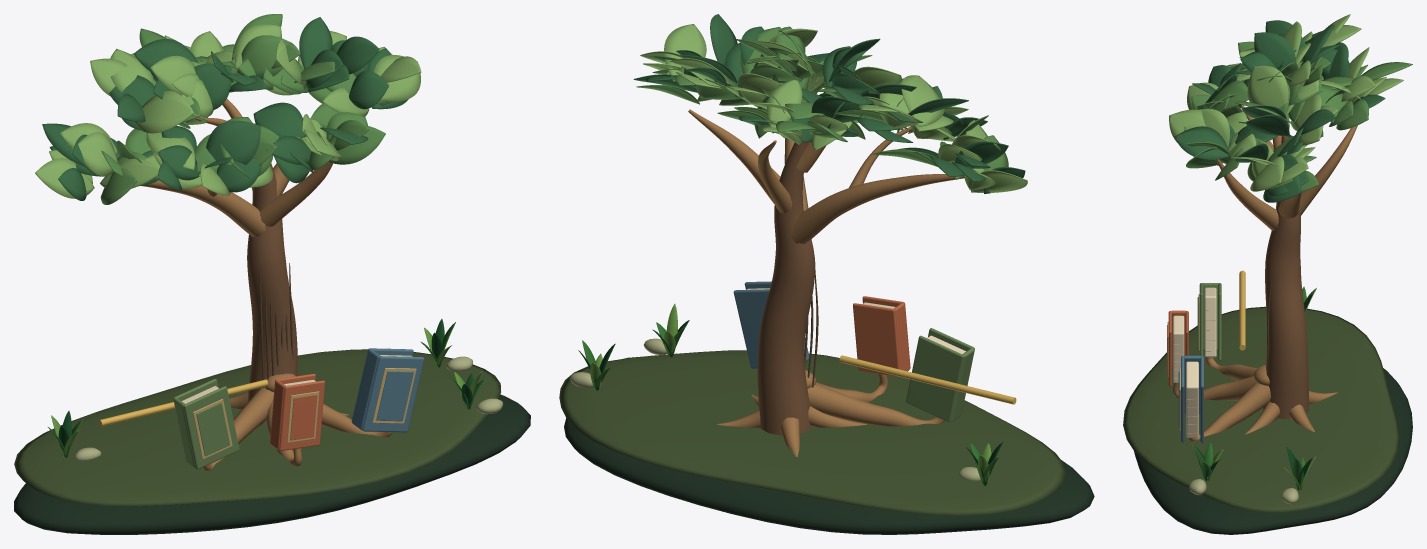
The model's file is root-books.glb.
3 views of the same model, side by side, from view 1: azimuth 30°, elevation 25°; view 2: azimuth 150°, elevation 25°; view 3: azimuth 270°, elevation 25° (orthographic). The views are drawn at different scales.
Parts seen in each view (by area): view 1: root-books_surface_07, root-books_surface_03, root-books_surface_05, root-books_surface_06, root-books_surface_04, root-books_surface_00, root-books_surface_13, root-books_surface_01, root-books_surface_10, root-books_surface_12, root-books_surface_08, root-books_surface_11 (+5 smaller); view 2: root-books_surface_07, root-books_surface_06, root-books_surface_05, root-books_surface_03, root-books_surface_00, root-books_surface_01, root-books_surface_04, root-books_surface_10, root-books_surface_12, root-books_surface_08, root-books_surface_13, root-books_surface_14 (+4 smaller); view 3: root-books_surface_07, root-books_surface_05, root-books_surface_03, root-books_surface_06, root-books_surface_00, root-books_surface_04, root-books_surface_01, root-books_surface_08, root-books_surface_09, root-books_surface_10, root-books_surface_13, root-books_surface_12 (+5 smaller).
Part boxes in pixels (x1=…): root-books_surface_07: x1=14, y1=349, x2=500, y2=506; root-books_surface_03: x1=42, y1=17, x2=408, y2=200; root-books_surface_05: x1=35, y1=24, x2=421, y2=198; root-books_surface_06: x1=14, y1=394, x2=530, y2=534; root-books_surface_04: x1=100, y1=14, x2=388, y2=204; root-books_surface_00: x1=247, y1=123, x2=297, y2=421; root-books_surface_13: x1=351, y1=348, x2=424, y2=432; root-books_surface_01: x1=142, y1=99, x2=348, y2=430; root-books_surface_10: x1=173, y1=379, x2=239, y2=469; root-books_surface_12: x1=270, y1=373, x2=324, y2=450; root-books_surface_08: x1=202, y1=373, x2=392, y2=470; root-books_surface_11: x1=193, y1=368, x2=416, y2=459; root-books_surface_07: x1=559, y1=350, x2=1065, y2=515; root-books_surface_06: x1=564, y1=356, x2=1094, y2=534; root-books_surface_05: x1=640, y1=24, x2=1027, y2=192; root-books_surface_03: x1=633, y1=14, x2=1025, y2=193; root-books_surface_00: x1=757, y1=141, x2=815, y2=435; root-books_surface_01: x1=688, y1=109, x2=964, y2=456; root-books_surface_04: x1=636, y1=26, x2=1008, y2=179; root-books_surface_10: x1=906, y1=328, x2=974, y2=422; root-books_surface_12: x1=853, y1=296, x2=910, y2=376; root-books_surface_08: x1=805, y1=370, x2=944, y2=426; root-books_surface_13: x1=733, y1=281, x2=809, y2=368; root-books_surface_14: x1=839, y1=355, x2=1016, y2=404; root-books_surface_07: x1=1123, y1=306, x2=1399, y2=512; root-books_surface_05: x1=1169, y1=14, x2=1403, y2=191; root-books_surface_03: x1=1174, y1=20, x2=1385, y2=202; root-books_surface_06: x1=1134, y1=368, x2=1412, y2=534; root-books_surface_00: x1=1263, y1=136, x2=1309, y2=418; root-books_surface_04: x1=1186, y1=41, x2=1412, y2=192; root-books_surface_01: x1=1216, y1=105, x2=1357, y2=434; root-books_surface_08: x1=1173, y1=357, x2=1270, y2=441; root-books_surface_09: x1=1173, y1=287, x2=1216, y2=437; root-books_surface_10: x1=1197, y1=283, x2=1221, y2=360; root-books_surface_13: x1=1178, y1=355, x2=1203, y2=442; root-books_surface_12: x1=1167, y1=310, x2=1188, y2=386.
Size of the model in its own units: 4.55 by 3.83 by 2.54.
